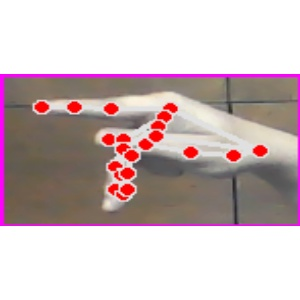P: (2, 75, 300, 226)
